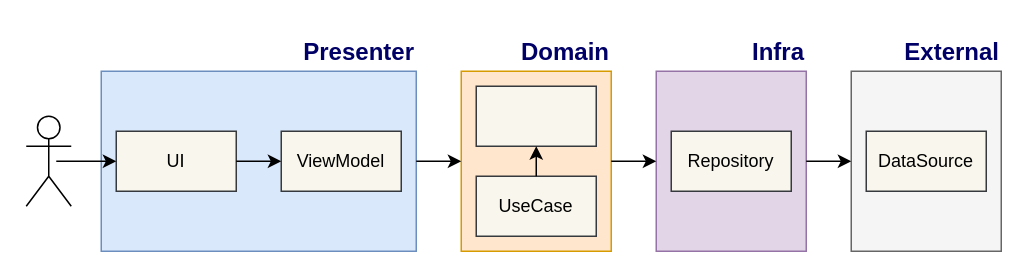
This 1028x278 diagram has some shape labels left out. The centre of each missing label's shape, as x and y in pixels:
Entity: the point at 535,115
User: the point at 48,160
